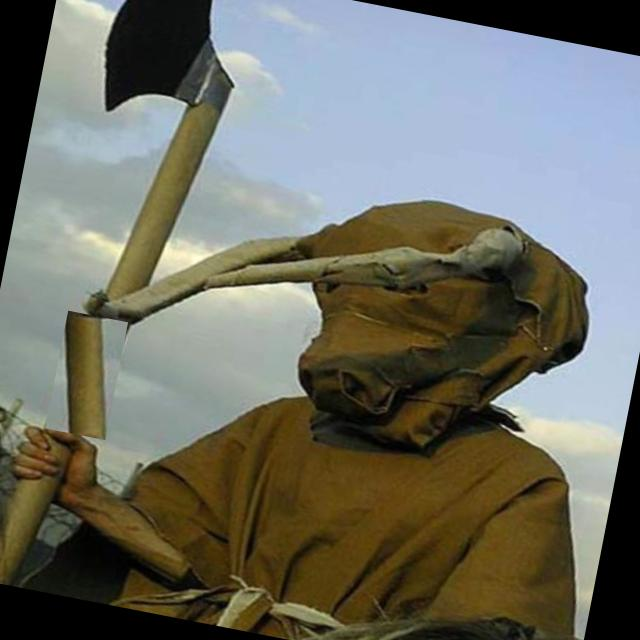Axe: (105, 0, 233, 298), (0, 477, 59, 585), (65, 311, 107, 438)
